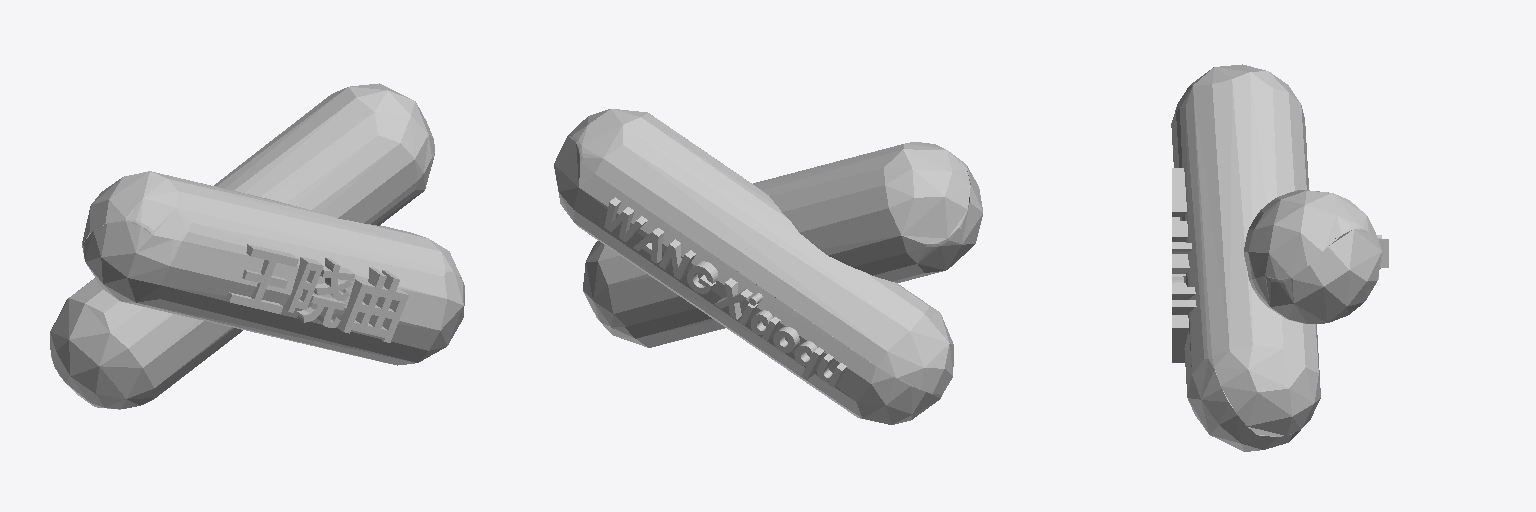
File: WangXiaoqu.obj
The picture shows the model from 3 angles: view 1: azimuth 30°, elevation 25°; view 2: azimuth 150°, elevation 25°; view 3: azimuth 270°, elevation 25°; orthographic projection.
Parts seen in each view (by area): view 1: root_3, root_2, node_id735; view 2: root_2, root_3, node_id746; view 3: root_3, root_2, node_id735.
Part boxes in pixels (left/top/right/bottom): root_3: left=82, top=171, right=464, bottom=365; root_2: left=50, top=83, right=434, bottom=409; node_id735: left=225, top=244, right=408, bottom=342; root_2: left=554, top=109, right=953, bottom=424; root_3: left=583, top=142, right=982, bottom=347; node_id746: left=604, top=197, right=846, bottom=387; root_3: left=1171, top=64, right=1320, bottom=451; root_2: left=1244, top=190, right=1381, bottom=323; node_id735: left=1172, top=168, right=1196, bottom=362.
Bounding box in the file's own units: 0.289 × 0.1836 × 0.1446.